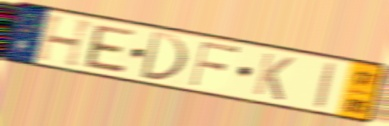D: (137, 29, 190, 84)
E: (84, 23, 138, 75)
F: (187, 40, 243, 89)
H: (34, 13, 98, 69)
I: (312, 60, 339, 112)
K: (250, 50, 297, 103)
